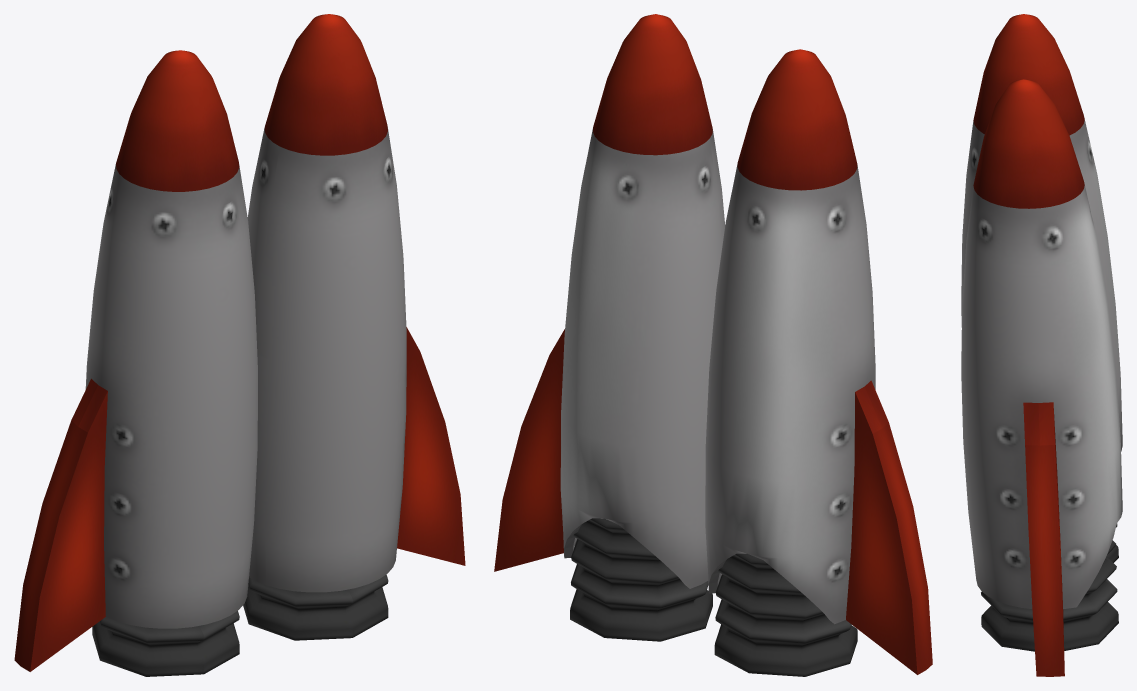
Rendered from propulsor3.FBX.
3 renders of one model, left to right at view 1: azimuth 30°, elevation 25°; view 2: azimuth 150°, elevation 25°; view 3: azimuth 270°, elevation 25°, orthographic. The views are drawn at different scales.
Parts seen in each view (by area): view 1: Hose001; view 2: Hose001; view 3: Hose001.
Boxes of the visible parts, bbox=[...] form: Hose001: bbox=[14, 14, 465, 676]; Hose001: bbox=[494, 14, 932, 676]; Hose001: bbox=[961, 14, 1122, 676].
Bounding box in the file's own units: 35.67 × 47.44 × 12.64.
